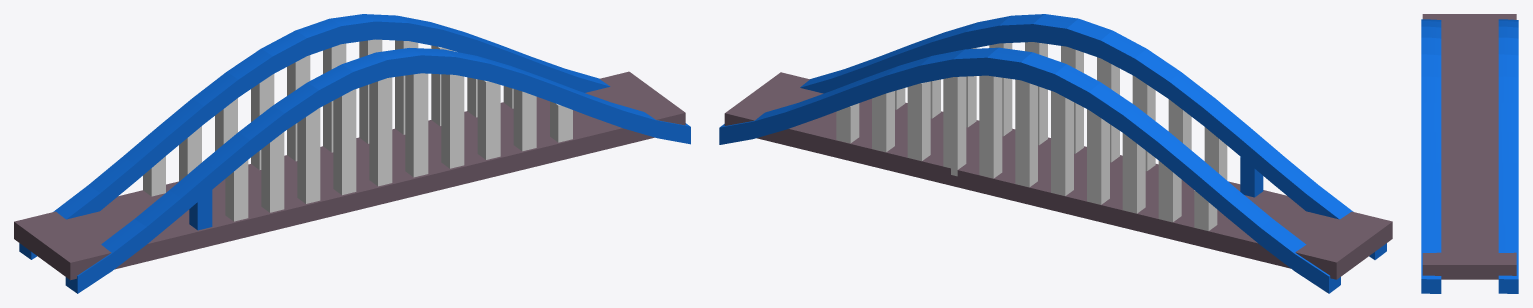
The model's file is bridge.fbx.
The picture shows the model from 3 angles, left to right: view 1: azimuth 30°, elevation 25°; view 2: azimuth 150°, elevation 25°; view 3: azimuth 270°, elevation 25°; orthographic projection. The views are drawn at different scales.
Visible parts, largest first — view 1: Cube, Cube.035, Cube.012, Cube.034, Cube.032, Cube.027, Cube.033, Cube.028, Cube.031, Cube.026, Cube.030, Cube.025 (+11 smaller); view 2: Cube, Cube.012, Cube.035, Cube.009, Cube.011, Cube.004, Cube.010, Cube.005, Cube.008, Cube.003, Cube.007, Cube.002 (+11 smaller); view 3: Cube, Cube.012, Cube.035.
Boxes of the visible parts, left/top/right/bottom form: Cube: left=14, top=71, right=685, bottom=280; Cube.035: left=65, top=48, right=690, bottom=293; Cube.012: left=19, top=14, right=610, bottom=259; Cube.034: left=369, top=77, right=392, bottom=186; Cube.032: left=405, top=73, right=428, bottom=177; Cube.027: left=333, top=89, right=356, bottom=195; Cube.033: left=441, top=74, right=464, bottom=168; Cube.028: left=297, top=108, right=320, bottom=203; Cube.031: left=477, top=79, right=500, bottom=159; Cube.026: left=261, top=132, right=284, bottom=212; Cube.030: left=513, top=89, right=536, bottom=151; Cube.025: left=225, top=160, right=248, bottom=221; Cube: left=724, top=72, right=1392, bottom=279; Cube.012: left=719, top=47, right=1340, bottom=293; Cube.035: left=800, top=14, right=1386, bottom=259; Cube.009: left=979, top=75, right=1002, bottom=178; Cube.011: left=1015, top=79, right=1037, bottom=187; Cube.004: left=1051, top=91, right=1073, bottom=196; Cube.010: left=943, top=76, right=966, bottom=176; Cube.005: left=1087, top=109, right=1109, bottom=204; Cube.008: left=907, top=81, right=930, bottom=160; Cube.003: left=1122, top=133, right=1145, bottom=213; Cube.007: left=872, top=91, right=894, bottom=152; Cube.002: left=1158, top=161, right=1181, bottom=222; Cube: left=1422, top=14, right=1516, bottom=279; Cube.012: left=1498, top=19, right=1518, bottom=293; Cube.035: left=1421, top=19, right=1441, bottom=293.
Bounding box in the file's own units: 5159 × 1262 × 840.
